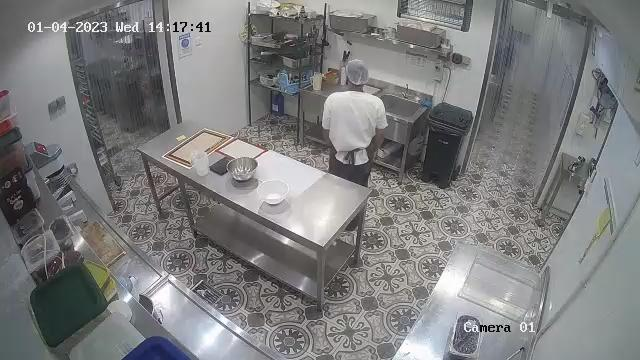apron: (331, 140, 372, 161)
